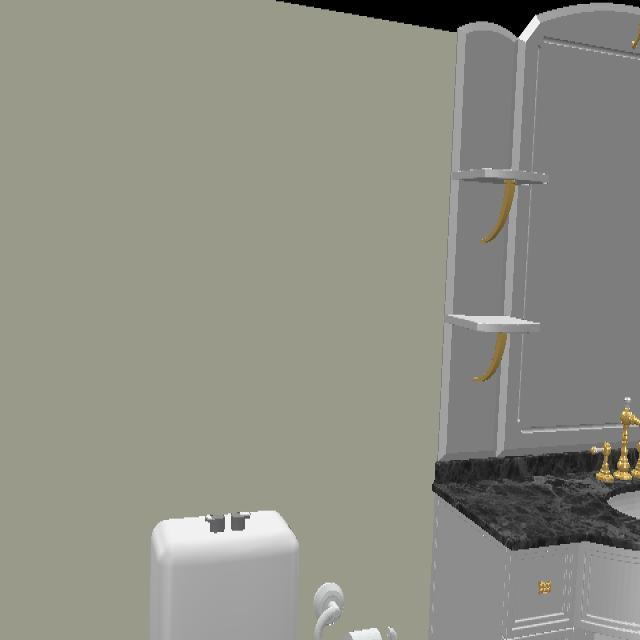toilet: (148, 511, 302, 640)
washbasin: (608, 488, 640, 523)
